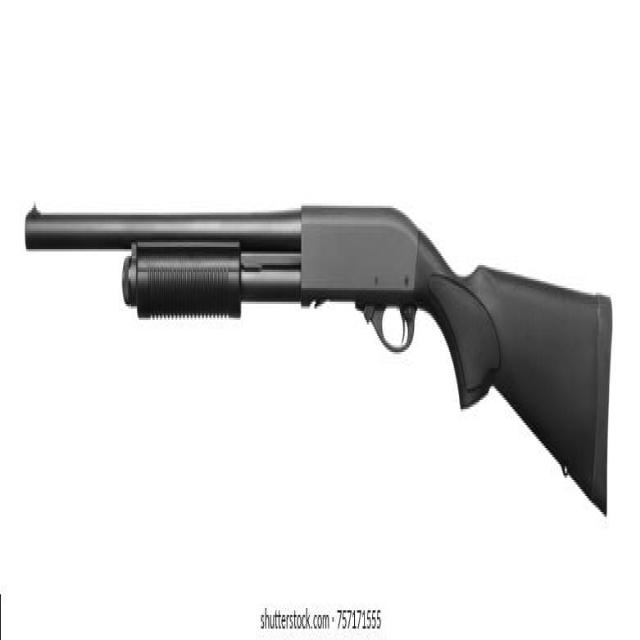weapon: (21, 188, 622, 521)
